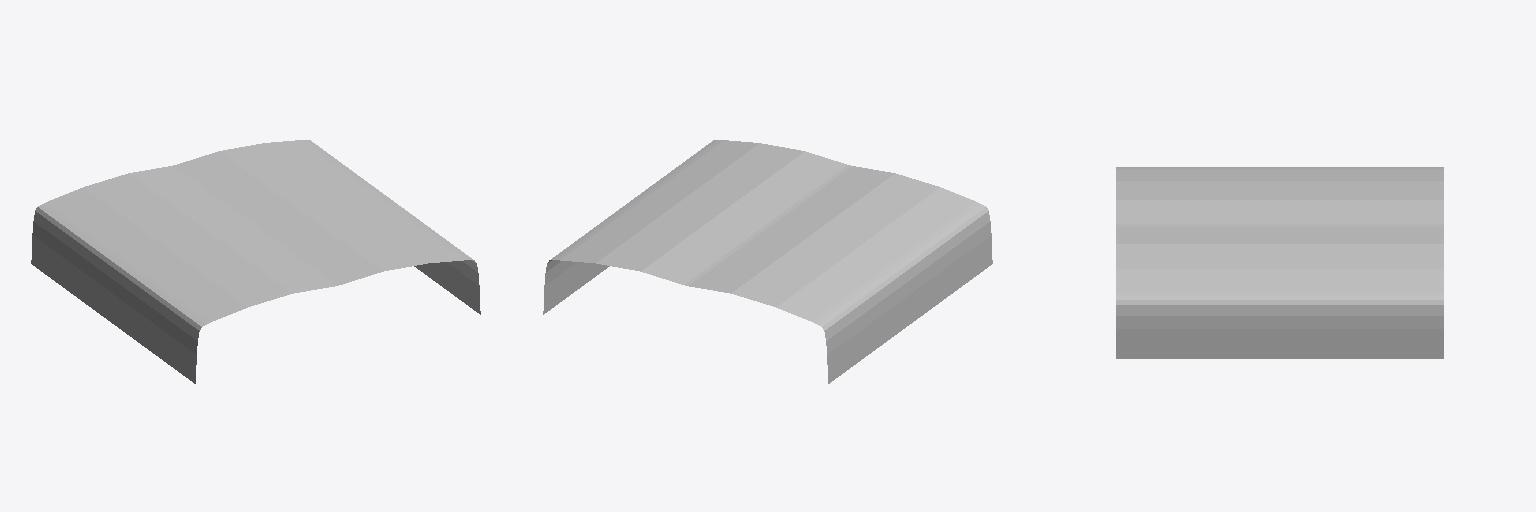
Rendered from horizontal_road_scaled.obj.
The picture shows the model from 3 angles: view 1: azimuth 30°, elevation 25°; view 2: azimuth 150°, elevation 25°; view 3: azimuth 270°, elevation 25°; orthographic projection.
Parts seen in each view (by area): view 1: p1a_Plane.024; view 2: p1a_Plane.024; view 3: p1a_Plane.024.
Part boxes in pixels (bbox=[...]): p1a_Plane.024: bbox=[31, 140, 480, 383]; p1a_Plane.024: bbox=[543, 140, 992, 383]; p1a_Plane.024: bbox=[1116, 167, 1443, 358].
Size of the model in its own units: 1 by 0.2253 by 1.